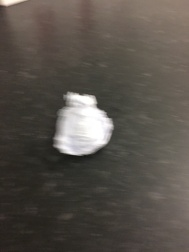paper_white: (51, 86, 126, 160)
